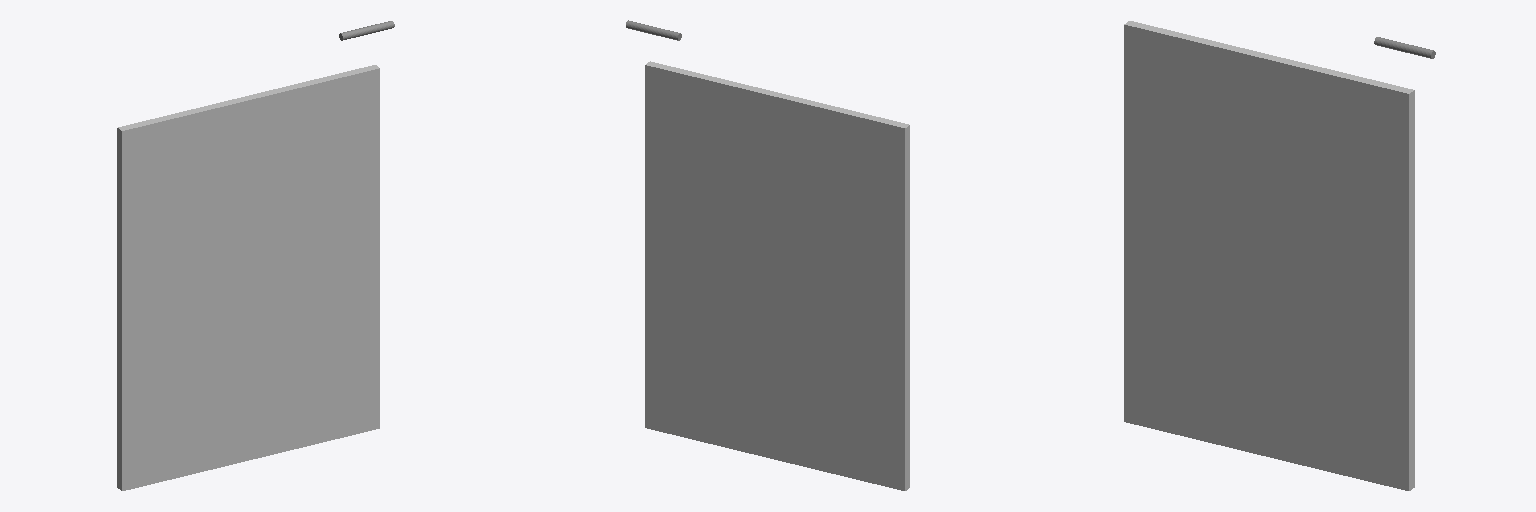
robot.urdf — door:
<?xml version="1.0"?>
<robot name="door">
  <link name="door_link">
    <visual>
      <geometry>
        <box size="1.5 0.05 2"/>
      </geometry>
      <material name="door_material">
        <color rgba="0.8 0.8 0.8 1"/>
      </material>
    </visual>
    <collision>
      <geometry>
        <box size="1.5 0.05 2"/>
      </geometry>
    </collision>
  </link>

  <link name="handle_link">
    <visual>
      <geometry>
        <cylinder radius="0.02" length="0.3"/>
      </geometry>
      <material name="handle_material">
        <color rgba="0.6 0.6 0.6 1"/>
      </material>
    </visual>
    <collision>
      <geometry>
        <cylinder radius="0.02" length="0.3"/>
      </geometry>
    </collision>
  </link>

  <joint name="handle_joint" type="fixed">
    <parent link="door_link"/>
    <child link="handle_link"/>
    <origin rpy="0 1.5708 0" xyz="0.7 0.025 1.2"/>
  </joint>
</robot>

--- Render facts (derived) ---
Views: 3 orthographic renders of the robot side by side, from view 1: azimuth 30°, elevation 25°; view 2: azimuth 150°, elevation 25°; view 3: azimuth 330°, elevation 25°.
Model door with 2 links and 1 joints (1 fixed), rooted at door_link, posed all joints at 0.
Links seen in each view (by area): view 1: door_link; view 2: door_link; view 3: door_link, handle_link.
Link boxes in pixels (box(x1,y1,x2,y2)): door_link: box(117, 65, 379, 490); door_link: box(645, 61, 909, 490); door_link: box(1124, 21, 1414, 490); handle_link: box(1374, 37, 1435, 58).
Size in the robot's own frame: 1.6 by 0.07 by 2.22 metres.
Geometry: primitives only (box / cylinder / sphere), no mesh files.